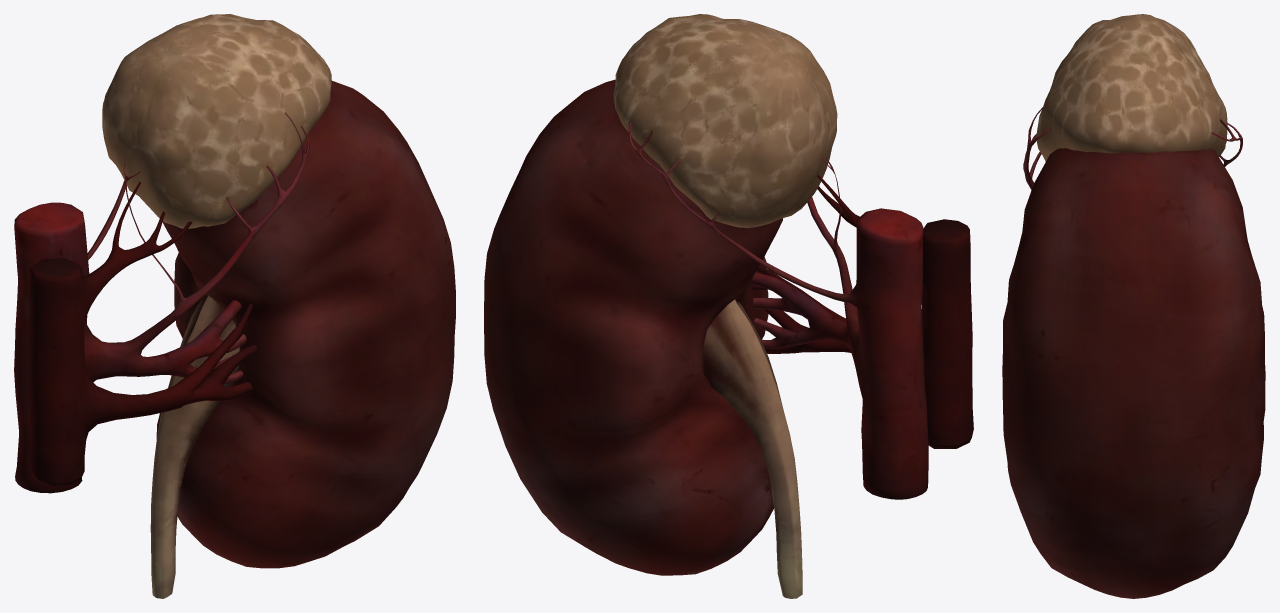
The model's file is medicine_organ_-_the_human_kidney.glb.
The picture shows the model from 3 angles, left to right: view 1: azimuth 30°, elevation 25°; view 2: azimuth 150°, elevation 25°; view 3: azimuth 270°, elevation 25°; orthographic projection. The views are drawn at different scales.
Visible parts, largest first — view 1: Kidney_OBJ:textureEditorIsolateSelectSetKidneyAll_L2_M_Kidne; view 2: Kidney_OBJ:textureEditorIsolateSelectSetKidneyAll_L2_M_Kidne; view 3: Kidney_OBJ:textureEditorIsolateSelectSetKidneyAll_L2_M_Kidne.
Boxes of the visible parts, x1,y1,x2,y2 form: Kidney_OBJ:textureEditorIsolateSelectSetKidneyAll_L2_M_Kidne: (14, 14, 455, 598); Kidney_OBJ:textureEditorIsolateSelectSetKidneyAll_L2_M_Kidne: (484, 14, 973, 598); Kidney_OBJ:textureEditorIsolateSelectSetKidneyAll_L2_M_Kidne: (1002, 14, 1265, 598).
Size of the model in its own units: 0.0211 by 0.026 by 0.0116.
1 material, 1 textured.
